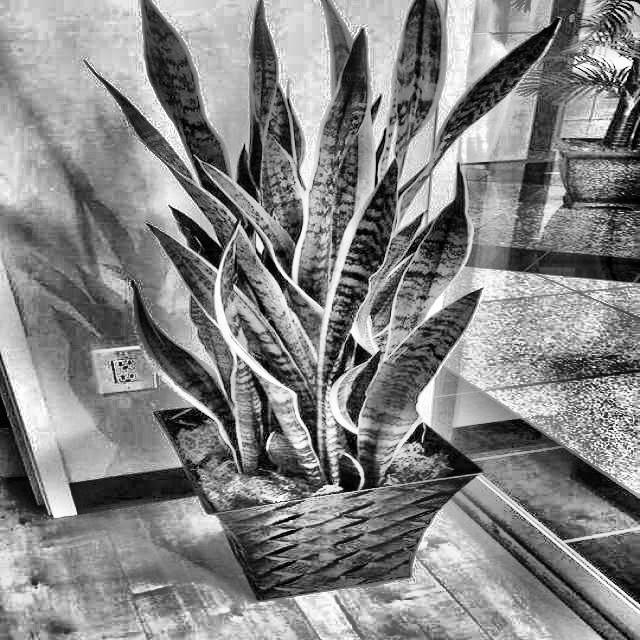plants: (79, 0, 563, 482)
